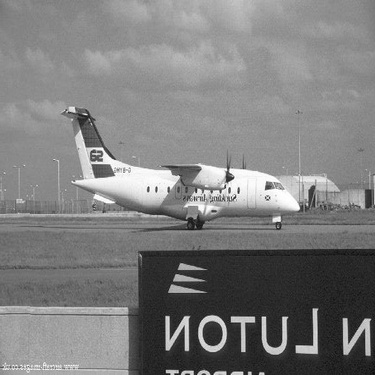airplane: (43, 80, 333, 239)
